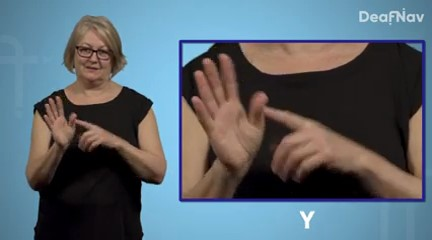Y: (188, 51, 354, 190), (42, 94, 117, 157)
